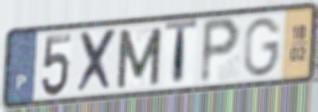5: (39, 32, 74, 97)
G: (242, 15, 283, 79)
M: (114, 25, 164, 92)
P: (197, 15, 243, 87)
T: (162, 17, 200, 90)
X: (76, 26, 120, 96)
